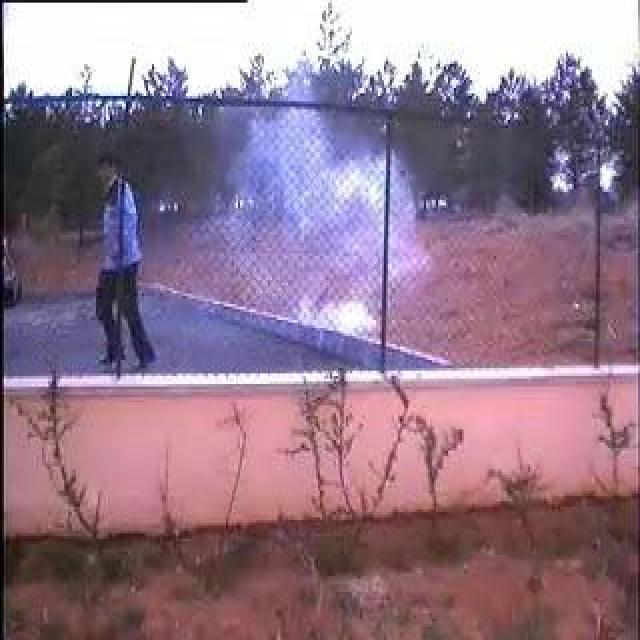Smoke: (219, 105, 405, 335)
